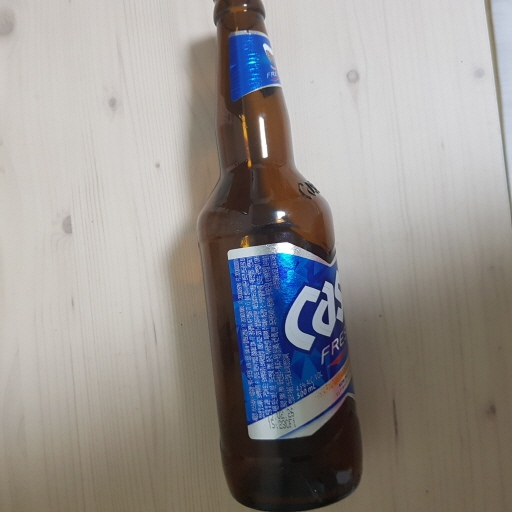Glass_1: (194, 1, 363, 512)
